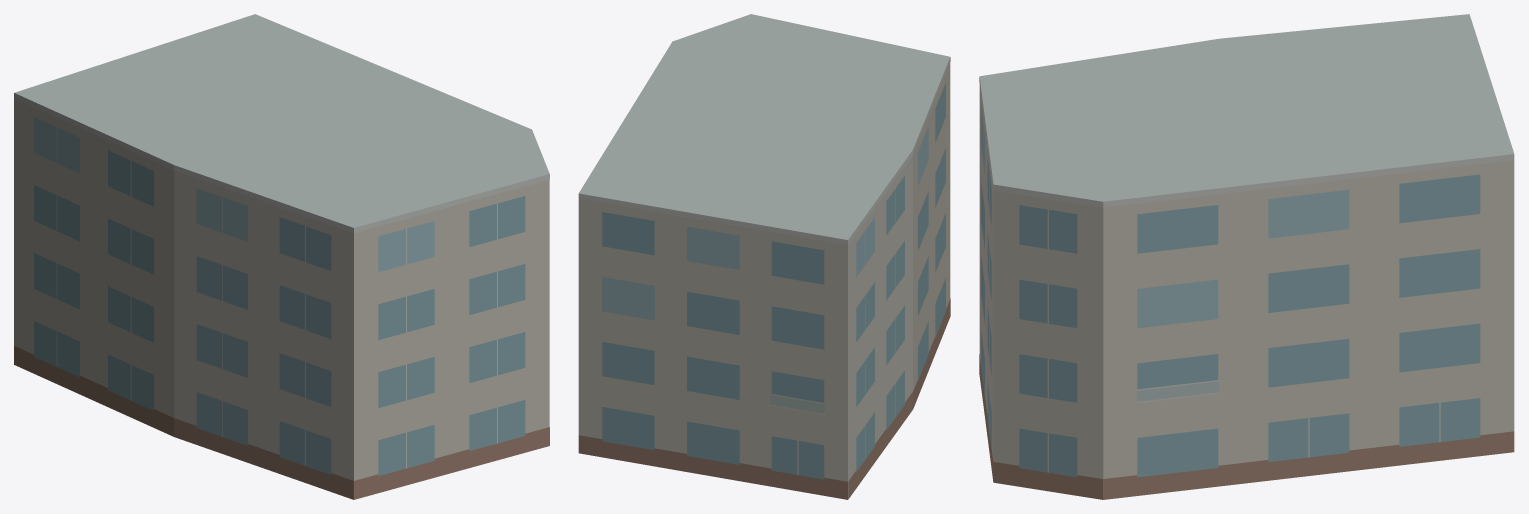
The model's file is survey-upis-32658485.glb.
3 views of the same model, side by side, from view 1: azimuth 30°, elevation 25°; view 2: azimuth 150°, elevation 25°; view 3: azimuth 270°, elevation 25° (orthographic). The views are drawn at different scales.
Parts seen in each view (by area): view 1: survey-upis-32658485.tmp; view 2: survey-upis-32658485.tmp; view 3: survey-upis-32658485.tmp.
Boxes of the visible parts, left/top/right/bottom form: survey-upis-32658485.tmp: left=14, top=14, right=549, bottom=499; survey-upis-32658485.tmp: left=578, top=14, right=950, bottom=499; survey-upis-32658485.tmp: left=979, top=14, right=1514, bottom=499.
Size of the model in its own units: 16.49 by 12.2 by 19.85.
